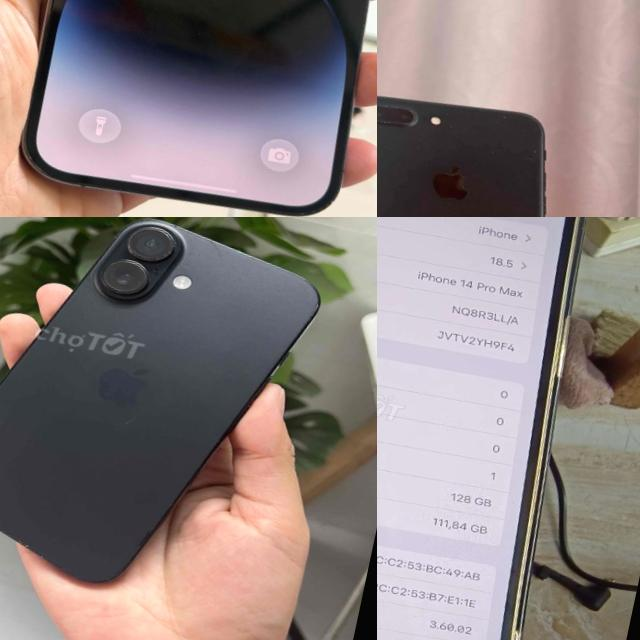scratch: (158, 217, 238, 285), (377, 95, 428, 132), (438, 106, 462, 130), (526, 145, 540, 157), (497, 112, 509, 122), (410, 141, 422, 151)
